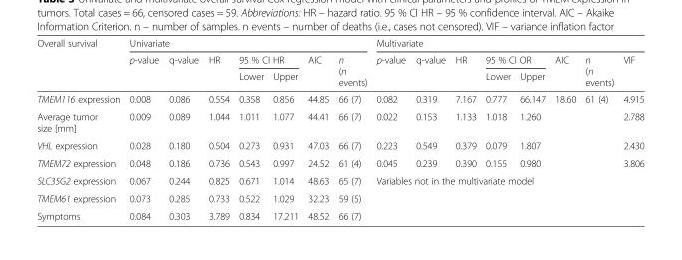table: (36, 37, 643, 221)
table column: (36, 37, 124, 221), (124, 37, 163, 221), (163, 37, 202, 221), (332, 37, 371, 221), (371, 37, 410, 221), (410, 37, 449, 221), (579, 37, 617, 221), (267, 37, 302, 221), (514, 37, 549, 221), (233, 37, 267, 221), (480, 37, 514, 221), (202, 37, 233, 221), (449, 37, 480, 221), (302, 37, 332, 221), (549, 37, 579, 221), (617, 37, 643, 221)
table column header: (36, 37, 643, 90)
table row: (36, 107, 643, 136), (36, 67, 643, 90), (36, 136, 643, 154), (36, 171, 643, 189), (36, 90, 643, 107), (36, 154, 643, 171), (36, 189, 643, 206), (36, 51, 643, 67), (36, 206, 643, 221), (36, 37, 643, 51)
table spanning cell: (371, 171, 643, 221), (36, 37, 124, 90), (371, 37, 643, 51), (124, 37, 371, 51), (579, 90, 617, 171), (549, 90, 579, 171), (124, 51, 163, 90), (163, 51, 202, 90), (332, 51, 371, 90), (371, 51, 410, 90), (410, 51, 449, 90), (579, 51, 617, 90), (202, 51, 233, 90), (449, 51, 480, 90), (302, 51, 332, 90), (549, 51, 579, 90), (233, 51, 302, 67), (480, 51, 549, 67), (617, 51, 643, 90)
